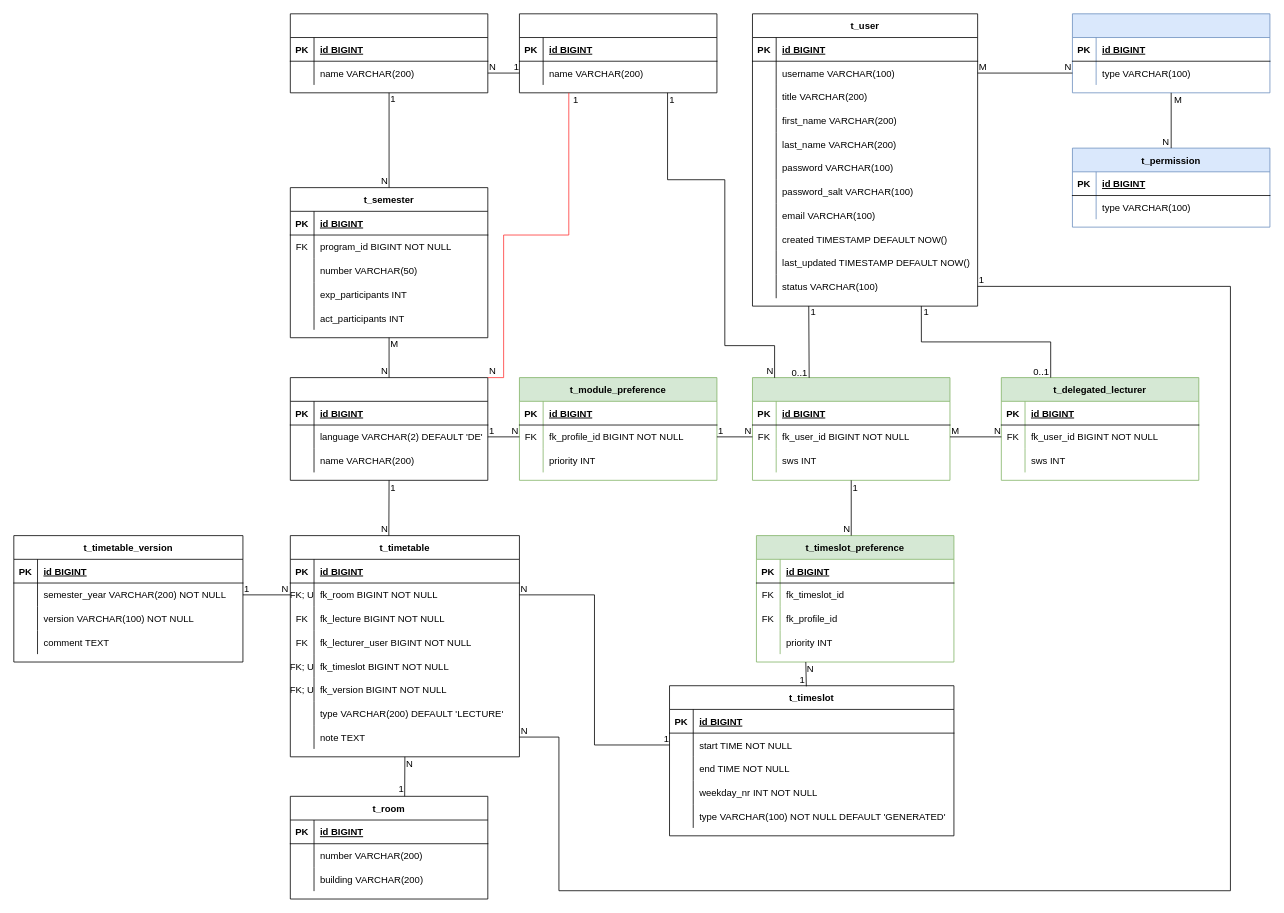
This 1284x913 diagram has some shape labels left out. Each missing label, with the box of its shape:
t_faculty: (519, 13, 717, 93)
t_lecture: (290, 377, 488, 480)
t_profile: (752, 377, 950, 480)
t_program: (290, 13, 488, 93)
t_role: (1072, 13, 1270, 93)
